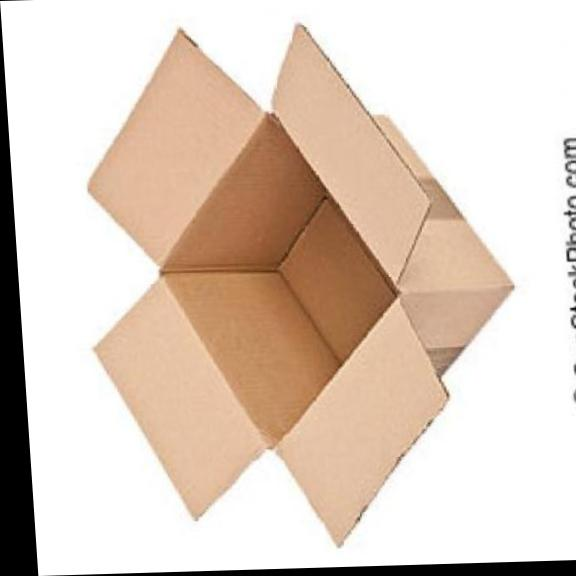Kertas: (89, 26, 512, 544)
